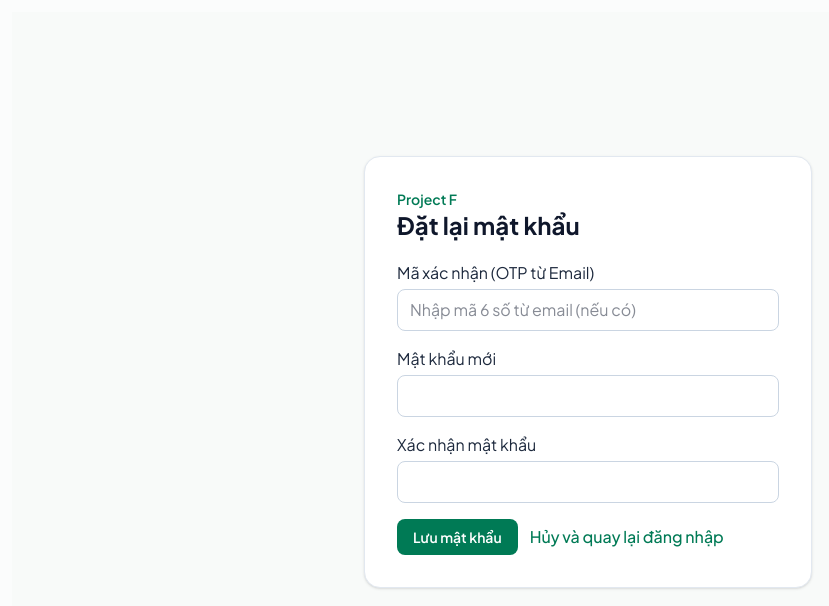
it: lets a recovery user leave reset password and return to login
What coordinates should you click on to do the following:
click the button "Hủy và quay lại đăng nhập"
I would click on:
 (627, 537)
Its box is [530,525,724,549].
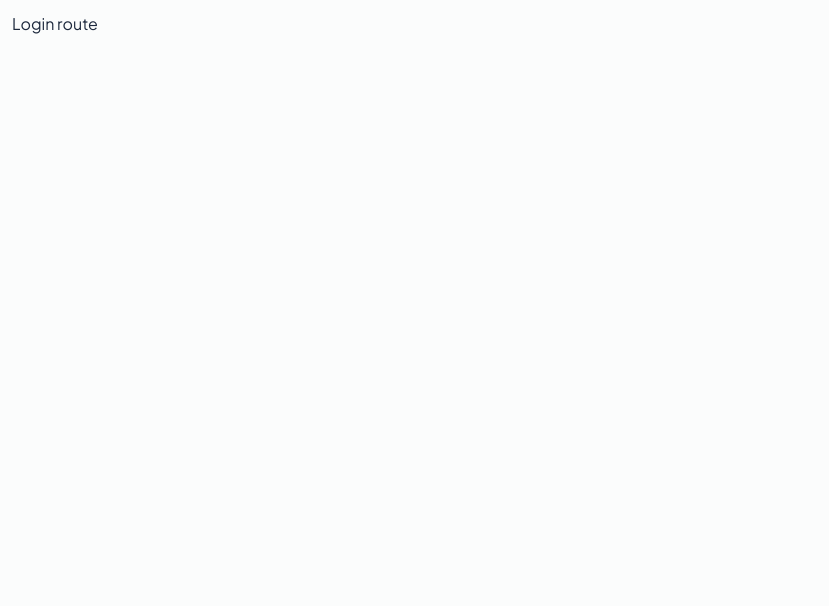
Expected: the text "Login route" is shown, [12,13,98,34]
